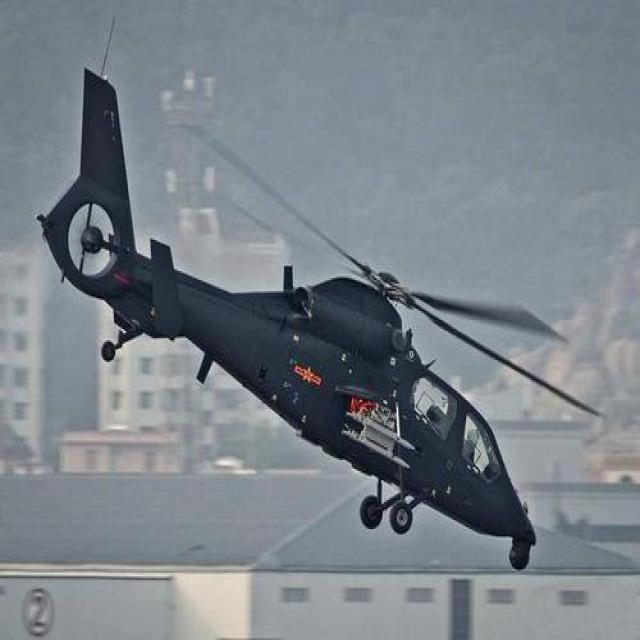MIL_HELO: (26, 48, 607, 583)
